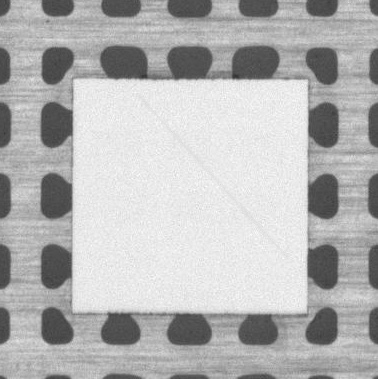DIE_CRACK: (139, 96, 286, 258)
